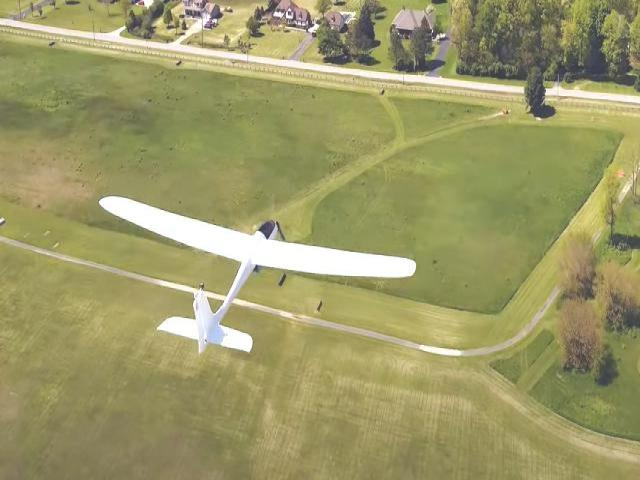iha: (97, 197, 416, 353)
